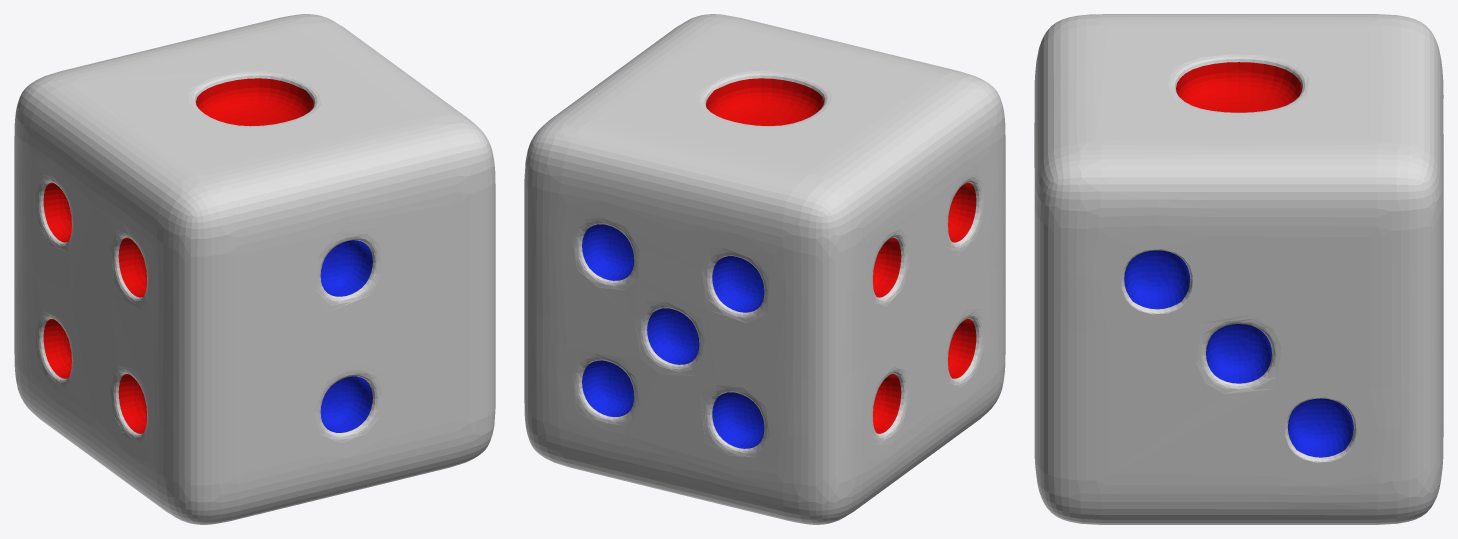
The model's file is dice.glb.
3 renders of one model, left to right at view 1: azimuth 30°, elevation 25°; view 2: azimuth 150°, elevation 25°; view 3: azimuth 270°, elevation 25°, orthographic. The views are drawn at different scales.
Visible parts, largest first — view 1: Cube; view 2: Cube; view 3: Cube.
Boxes of the visible parts, box(x1,y1,x2,y2) form: Cube: box(14, 14, 495, 524); Cube: box(524, 14, 1005, 524); Cube: box(1034, 14, 1443, 524).
Size of the model in its own units: 2 by 2 by 2.
